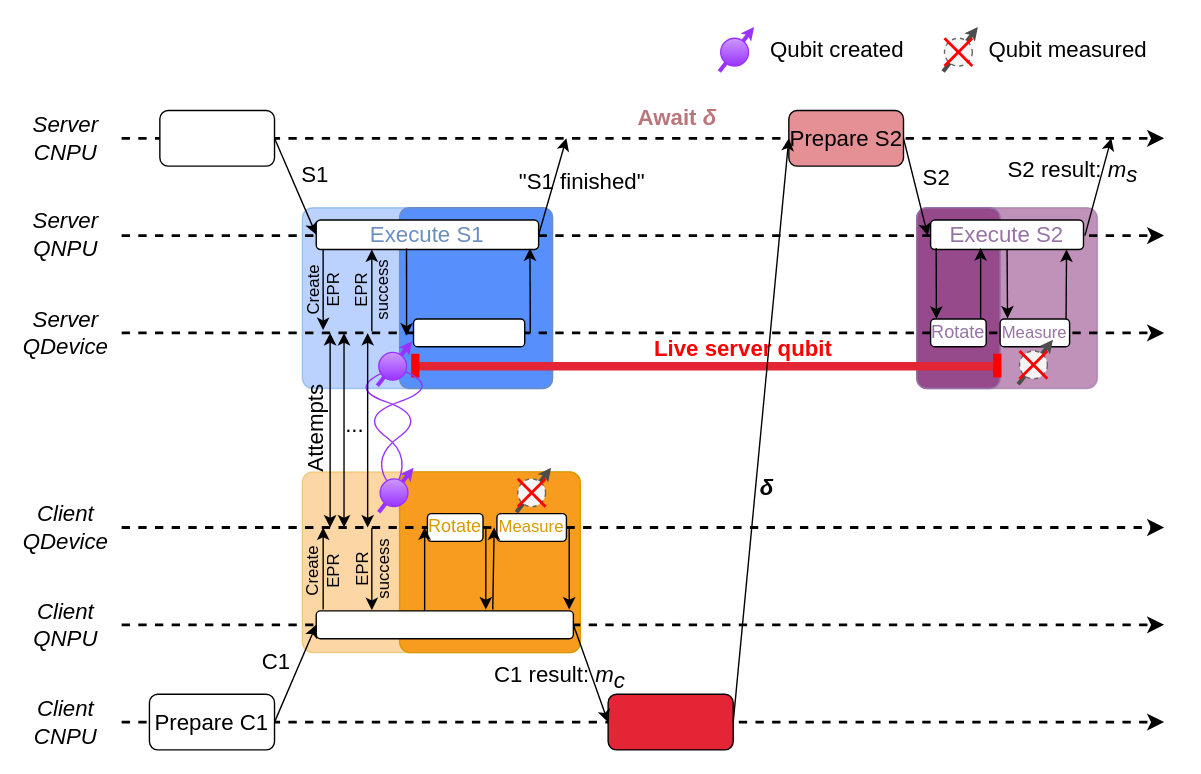
The diagram is 1201 pixels wide and 774 high, and some of its shapes have lost their labels. The shapes that lost their labels are listed below. From the top down, each one's centre as x and y in pixels, then its label:
At pixel 216 137: "Prepare S1".
At pixel 468 332: "Rotate to Φ +".
At pixel 444 624: "Execute C1".
At pixel 670 721: "Compute δ".
